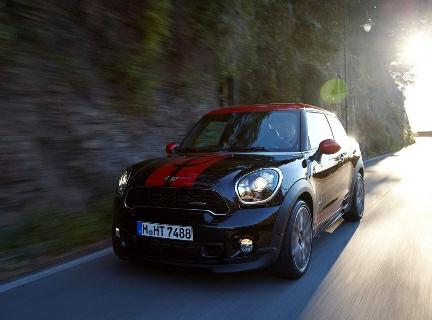MINI-JCWPACEMAN: (107, 100, 371, 282)
